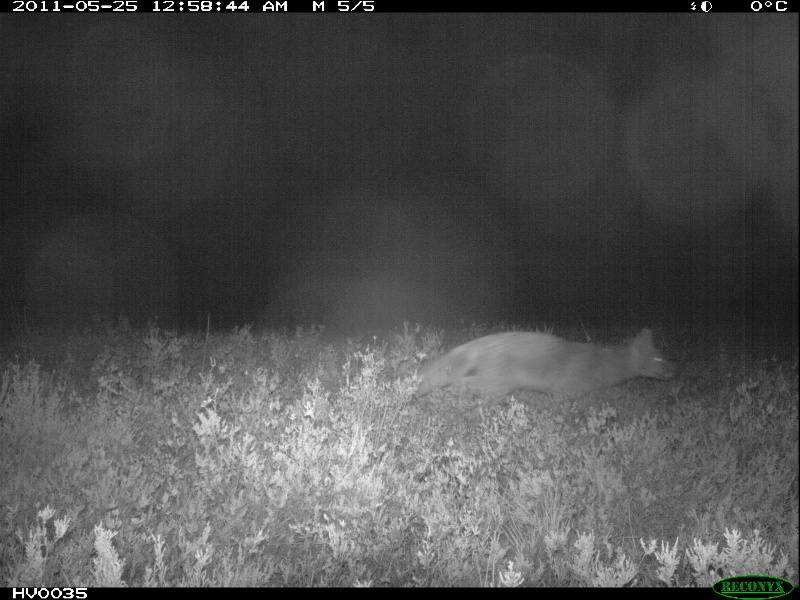fox: (366, 325, 683, 412)
